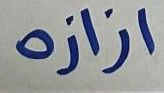alef: (133, 4, 157, 59), (81, 6, 103, 59)
hamza: (58, 15, 80, 75)
heh: (10, 25, 57, 61)
reh: (105, 8, 131, 75)
